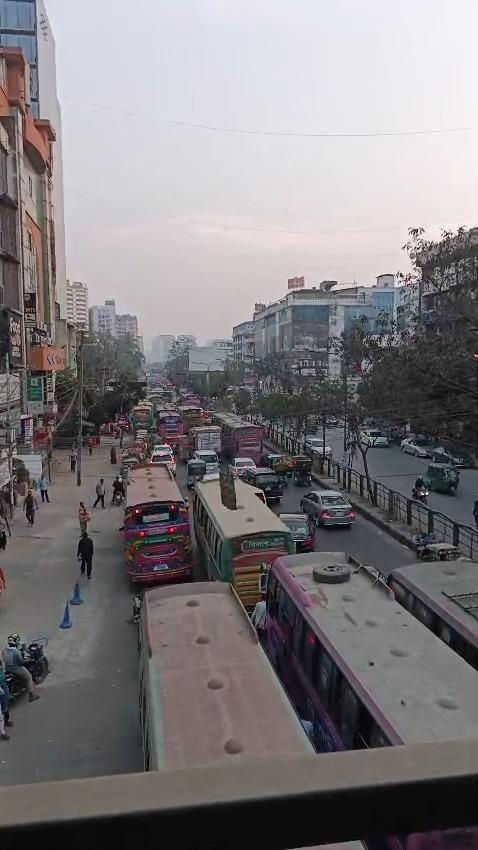Bikes: (8, 627, 72, 727)
Bus: (125, 580, 478, 733), (198, 472, 293, 576), (125, 440, 194, 566)
cng: (413, 457, 478, 484)
private car: (308, 474, 364, 560)
